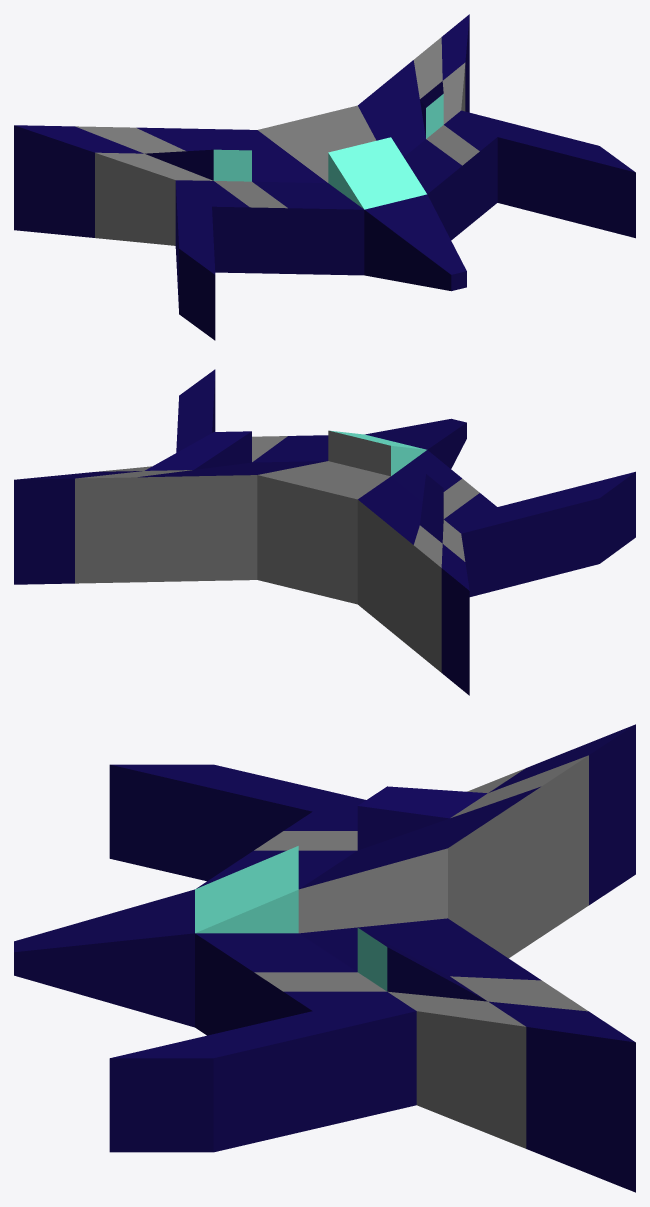
Rendered from Fighter.fbx.
3 renders of one model, top to bottom at view 1: azimuth 30°, elevation 25°; view 2: azimuth 150°, elevation 25°; view 3: azimuth 270°, elevation 25°, orthographic. The views are drawn at different scales.
Parts seen in each view (by area): view 1: 立方体; view 2: 立方体; view 3: 立方体.
Boxes of the visible parts, bbox=[...] form: 立方体: bbox=[14, 14, 635, 340]; 立方体: bbox=[14, 369, 635, 695]; 立方体: bbox=[14, 724, 635, 1192].
Bounding box in the file's own units: 920 × 225 × 760.
